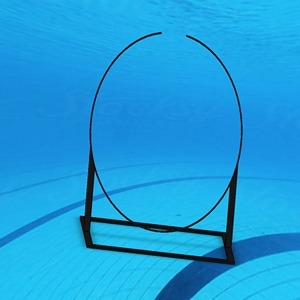circle: (77, 30, 245, 268)
